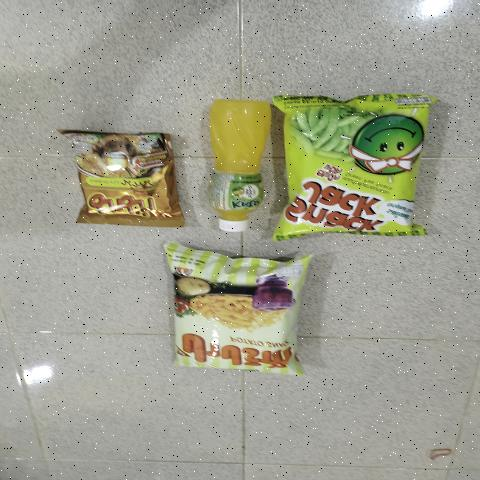mama: (88, 135, 172, 218)
paprika: (175, 254, 287, 368)
snack_jack: (291, 112, 404, 228)
